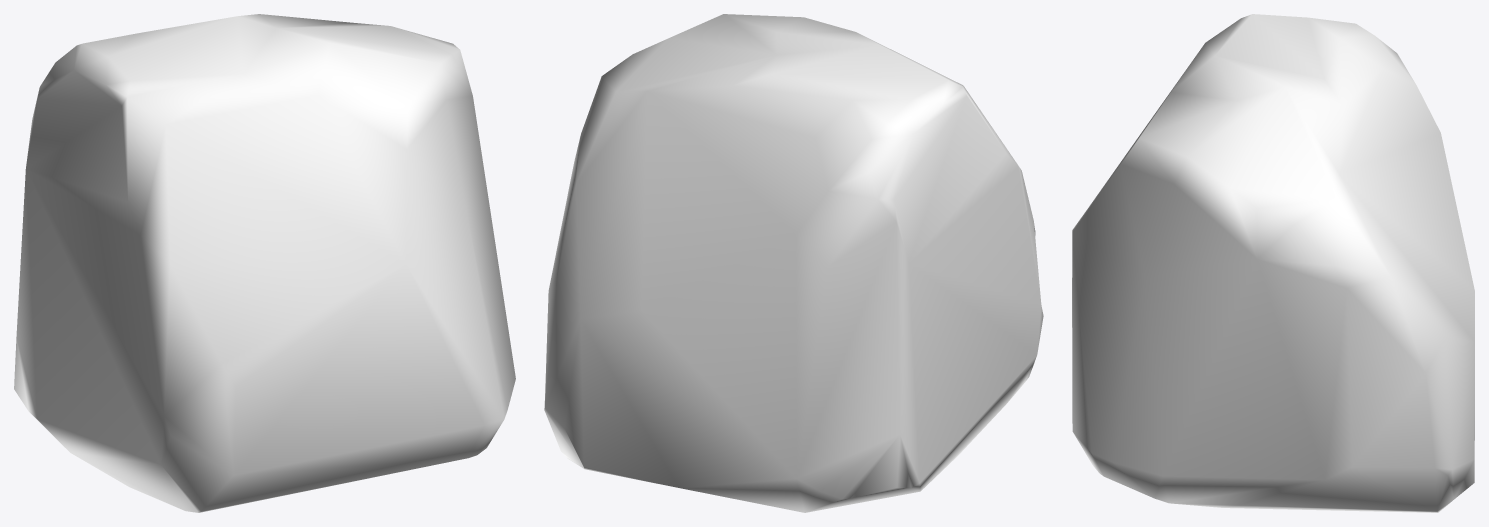
File: SM_RefinedMetal_1c.fbx
The picture shows the model from 3 angles, left to right: view 1: azimuth 30°, elevation 25°; view 2: azimuth 150°, elevation 25°; view 3: azimuth 270°, elevation 25°; orthographic projection. The views are drawn at different scales.
Parts seen in each view (by area): view 1: RefinedMetal_1c; view 2: RefinedMetal_1c; view 3: RefinedMetal_1c.
Boxes of the visible parts, x1,y1,x2,y2 form: RefinedMetal_1c: [14, 14, 515, 512]; RefinedMetal_1c: [544, 14, 1043, 512]; RefinedMetal_1c: [1072, 14, 1474, 512].
Bounding box in the file's own units: 0.3039 × 0.3084 × 0.3084.
